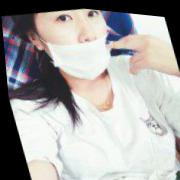WRONG: (39, 4, 124, 86)
